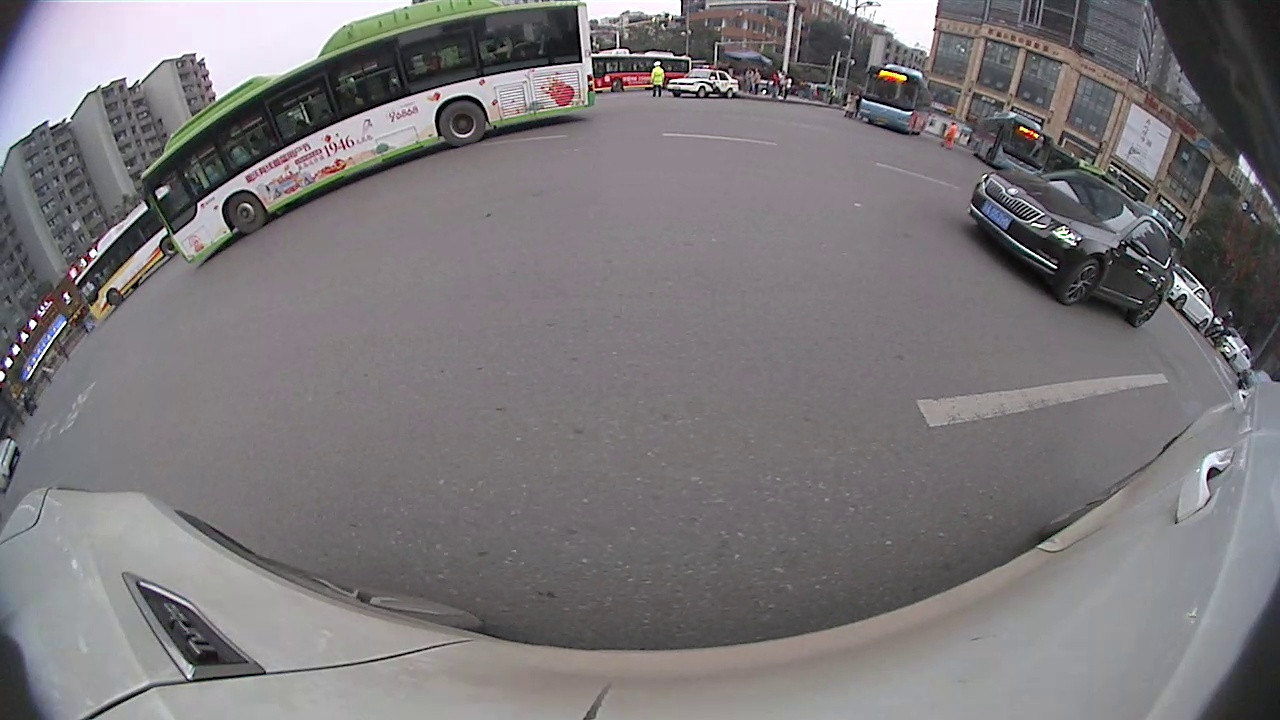bus: (136, 1, 595, 272), (72, 199, 174, 325), (857, 58, 936, 133), (972, 106, 1054, 171), (589, 47, 692, 93)
car: (966, 165, 1178, 331), (1165, 260, 1220, 338), (666, 64, 741, 102), (1209, 324, 1256, 376)
front: (1058, 256, 1105, 307), (223, 188, 270, 235)
person: (650, 56, 666, 96)
rear: (437, 95, 488, 150), (1131, 291, 1160, 330)
